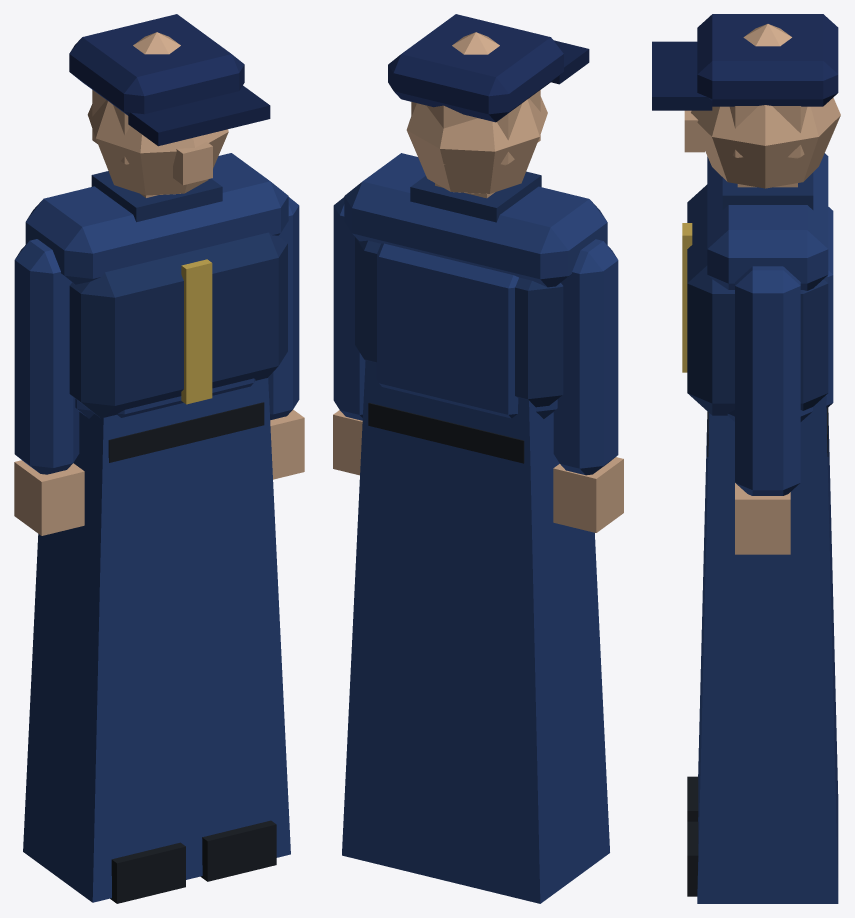
The model's file is ped_cop_lod0-CCAZ4q6N.glb.
The picture shows the model from 3 angles, left to right: view 1: azimuth 30°, elevation 25°; view 2: azimuth 150°, elevation 25°; view 3: azimuth 270°, elevation 25°; orthographic projection.
Visible parts, largest first — view 1: far_body, torso, head, arm_l, arm_r, leg_r, leg_l, far_head; view 2: far_body, torso, head, arm_l, arm_r, far_head; view 3: far_body, torso, head, arm_r, far_head, leg_r, leg_l.
Boxes of the visible parts, x1,y1,x2,y2 form: far_body: (23, 378, 290, 902); torso: (25, 153, 288, 462); head: (69, 14, 270, 197); arm_l: (14, 239, 84, 535); arm_r: (268, 197, 304, 479); leg_r: (200, 820, 276, 881); leg_l: (110, 842, 185, 903); far_head: (92, 32, 180, 164); far_body: (342, 360, 609, 903); torso: (344, 153, 607, 463); head: (388, 14, 589, 198); arm_l: (553, 239, 623, 532); arm_r: (333, 197, 365, 475); far_head: (411, 32, 540, 165); far_body: (697, 395, 838, 903); torso: (682, 153, 833, 456); head: (652, 14, 840, 188); arm_r: (735, 266, 800, 554); far_head: (729, 24, 833, 158); leg_r: (687, 821, 698, 896); leg_l: (687, 776, 698, 821).
Bounding box in the file's own units: 0.625 × 1.82 × 0.375.
